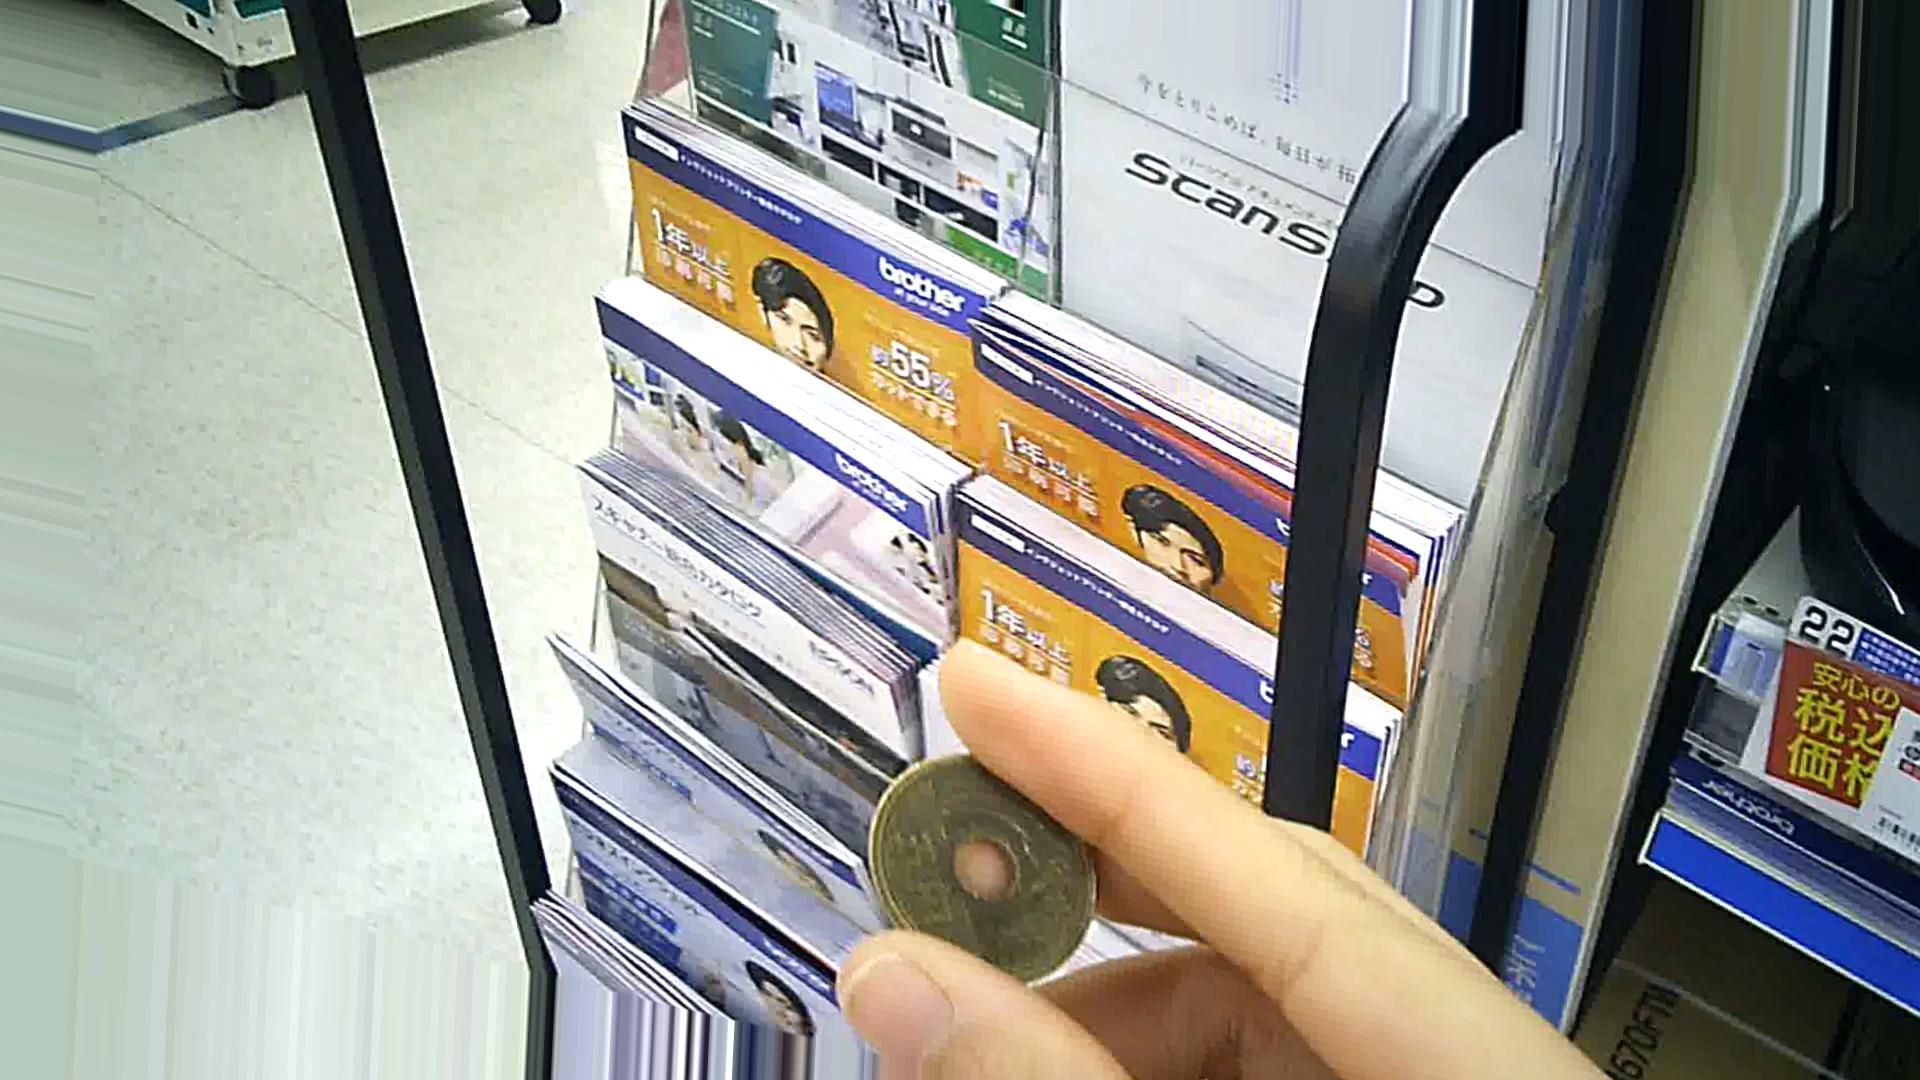5 Yen: (873, 752, 1095, 1004)
